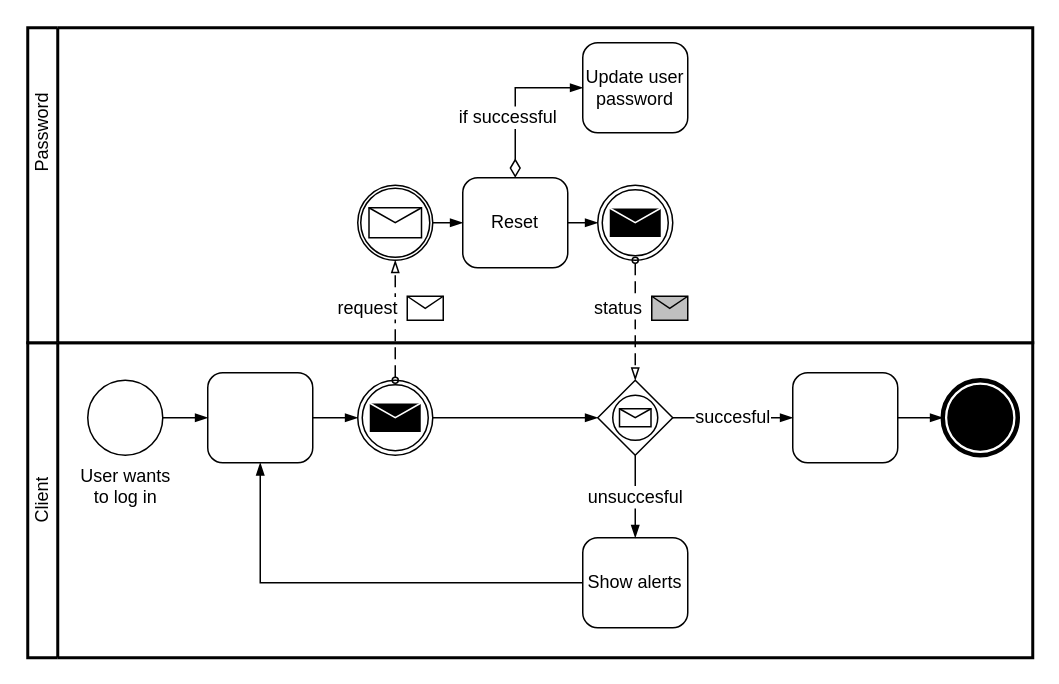
The diagram is 1059 pixels wide and 684 high, and some of its shapes have lost their labels. Here are the shapes that lost their labels. From the top down, the centre of each, then its label:
At point 259,417: "Fill form".
At point 844,417: "Authenticate".
